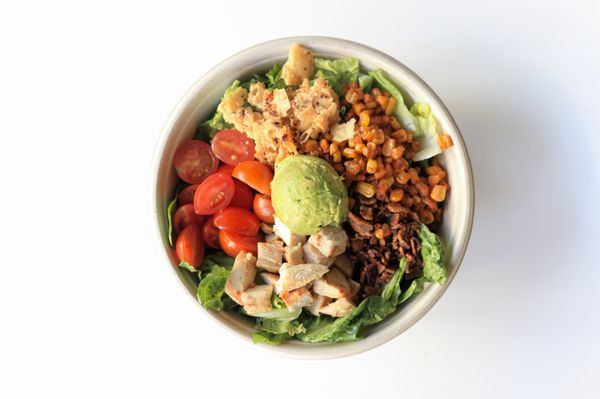curry: (312, 56, 361, 98)
sushi: (149, 30, 477, 367)
